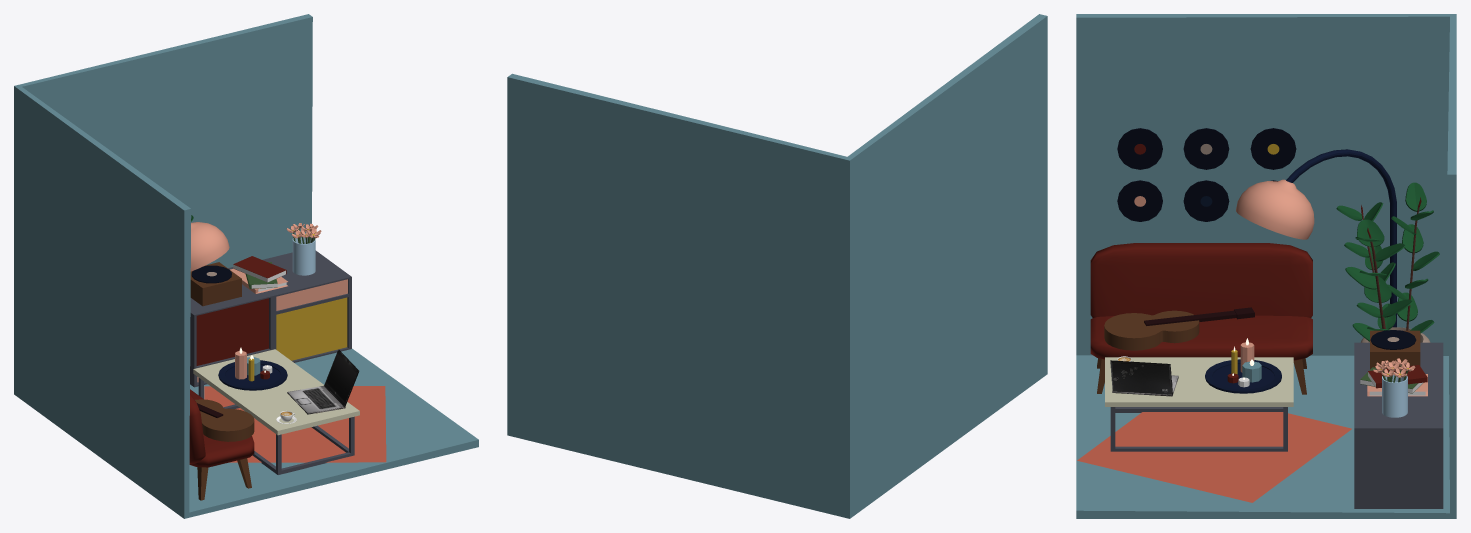
The model's file is music_room.glb.
3 views of the same model, side by side, from view 1: azimuth 30°, elevation 25°; view 2: azimuth 150°, elevation 25°; view 3: azimuth 270°, elevation 25° (orthographic). The views are drawn at different scales.
Parts seen in each view (by area): view 1: Cube, comode, table, Plane, sofa, candles, guitar, music, book1, lamp.001, vase, c51ed43d-1169-0723-864c-fe5d8042fde6_1 (+1 smaller); view 2: Cube; view 3: Cube, sofa, Plane, comode, table, music.002, pot, lamp.001, guitar, candles, c51ed43d-1169-0723-864c-fe5d8042fde6_1, music (+2 smaller).
Boxes of the visible parts, x1,y1,x2,y2 form: Cube: (14,14,478,518); comode: (190,250,351,387); table: (193,349,359,474); Plane: (204,386,386,462); sofa: (189,389,254,500); candles: (218,347,287,390); guitar: (195,399,254,441); music: (190,262,241,306); book1: (230,256,287,293); lamp.001: (190,222,229,271); vase: (286,223,321,275); c51ed43d-1169-0723-864c-fe5d8042fde6_1: (324,349,359,406); Cube: (507,14,1047,518); Cube: (1076,14,1456,518); sofa: (1090,243,1312,394); Plane: (1077,412,1351,502); comode: (1354,342,1443,508); table: (1105,357,1293,451); music.002: (1117,128,1296,221); pot: (1336,182,1439,342); lamp.001: (1236,149,1396,327); guitar: (1104,307,1254,350); candles: (1205,338,1281,393); c51ed43d-1169-0723-864c-fe5d8042fde6_1: (1110,360,1172,395); music: (1370,330,1420,369).
Bounding box in the file's own units: 100 × 100 × 100.
Materials: 24 (5 with a texture image).
